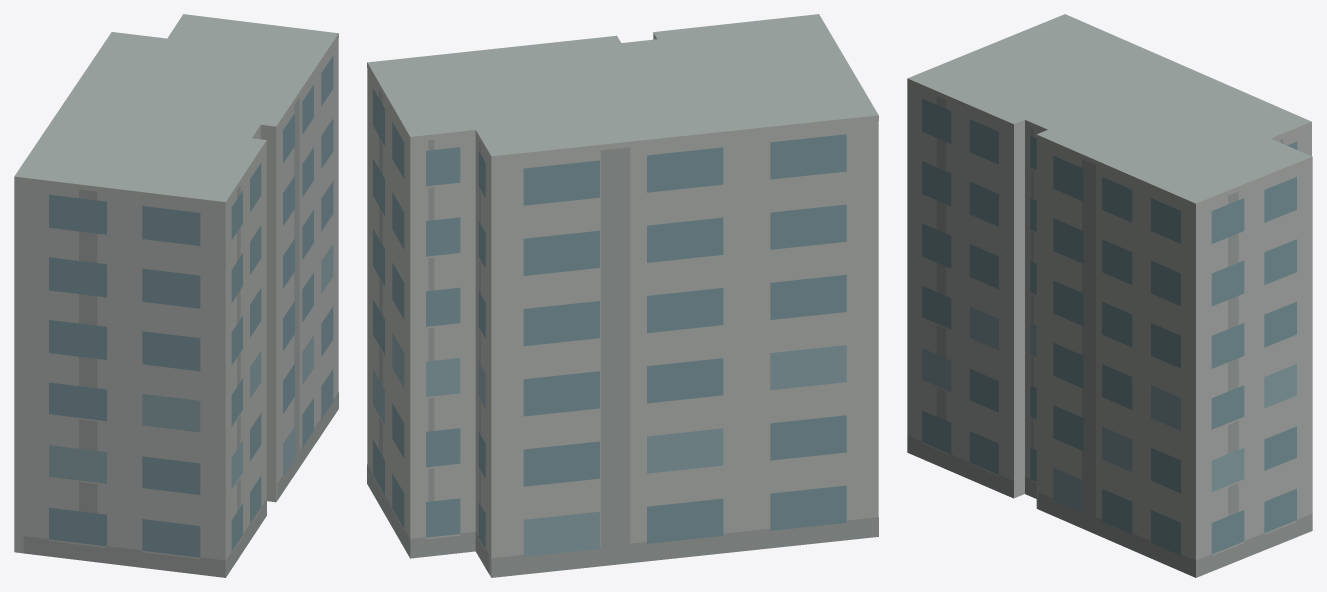
The model's file is survey-upis-32579065.glb.
The picture shows the model from 3 angles, left to right: view 1: azimuth 30°, elevation 25°; view 2: azimuth 150°, elevation 25°; view 3: azimuth 270°, elevation 25°; orthographic projection. The views are drawn at different scales.
Parts seen in each view (by area): view 1: survey-upis-32579065.tmp; view 2: survey-upis-32579065.tmp; view 3: survey-upis-32579065.tmp.
Boxes of the visible parts, <box> form: survey-upis-32579065.tmp: <box>14,14,338,577</box>; survey-upis-32579065.tmp: <box>367,14,878,577</box>; survey-upis-32579065.tmp: <box>907,14,1312,577</box>.
Size of the model in its own units: 19.9 by 18.3 by 17.97.
